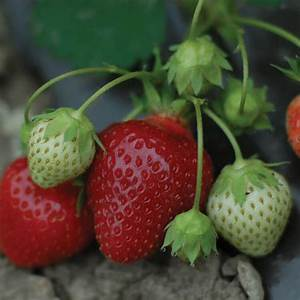Fresa: (80, 113, 220, 275)
